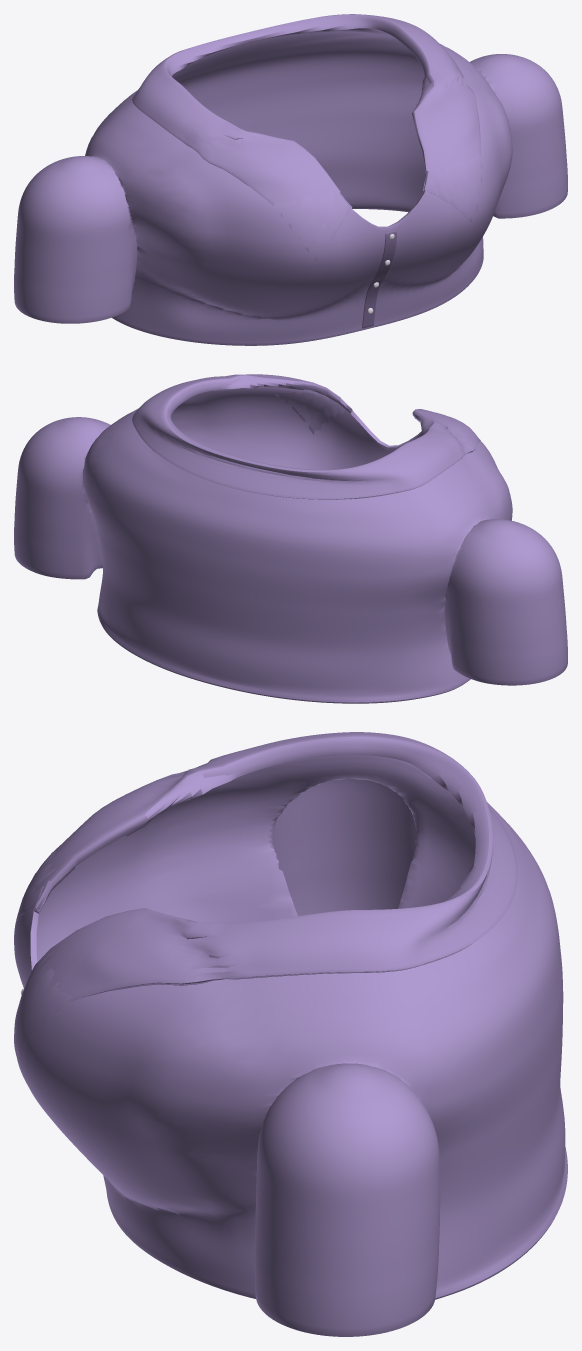
File: Feminine-open-top.glb
The picture shows the model from 3 angles, top to bottom: view 1: azimuth 30°, elevation 25°; view 2: azimuth 150°, elevation 25°; view 3: azimuth 270°, elevation 25°; orthographic projection. The views are drawn at different scales.
Parts seen in each view (by area): view 1: Clothing / joined open186, Button-up / lower closed placket; view 2: Clothing / joined open186, Shirt / seated hem export; view 3: Clothing / joined open186.
Boxes of the visible parts, x1,y1,x2,y2 form: Clothing / joined open186: [14, 14, 567, 345]; Button-up / lower closed placket: [362, 230, 396, 328]; Clothing / joined open186: [14, 374, 567, 702]; Shirt / seated hem export: [103, 628, 470, 703]; Clothing / joined open186: [14, 732, 567, 1336].
Bounding box in the file's own units: 0.9321 × 0.3605 × 0.5188.
